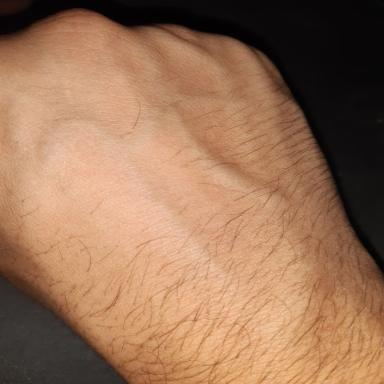normal skin: (1, 10, 383, 384)
